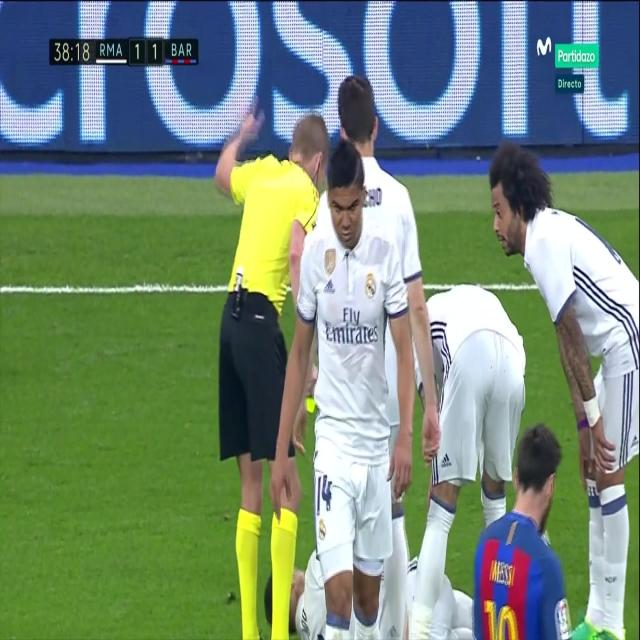Player: (484, 143, 640, 640), (269, 137, 415, 636), (337, 67, 443, 461), (412, 277, 526, 640), (469, 422, 575, 638)
Referee: (212, 102, 332, 640)
